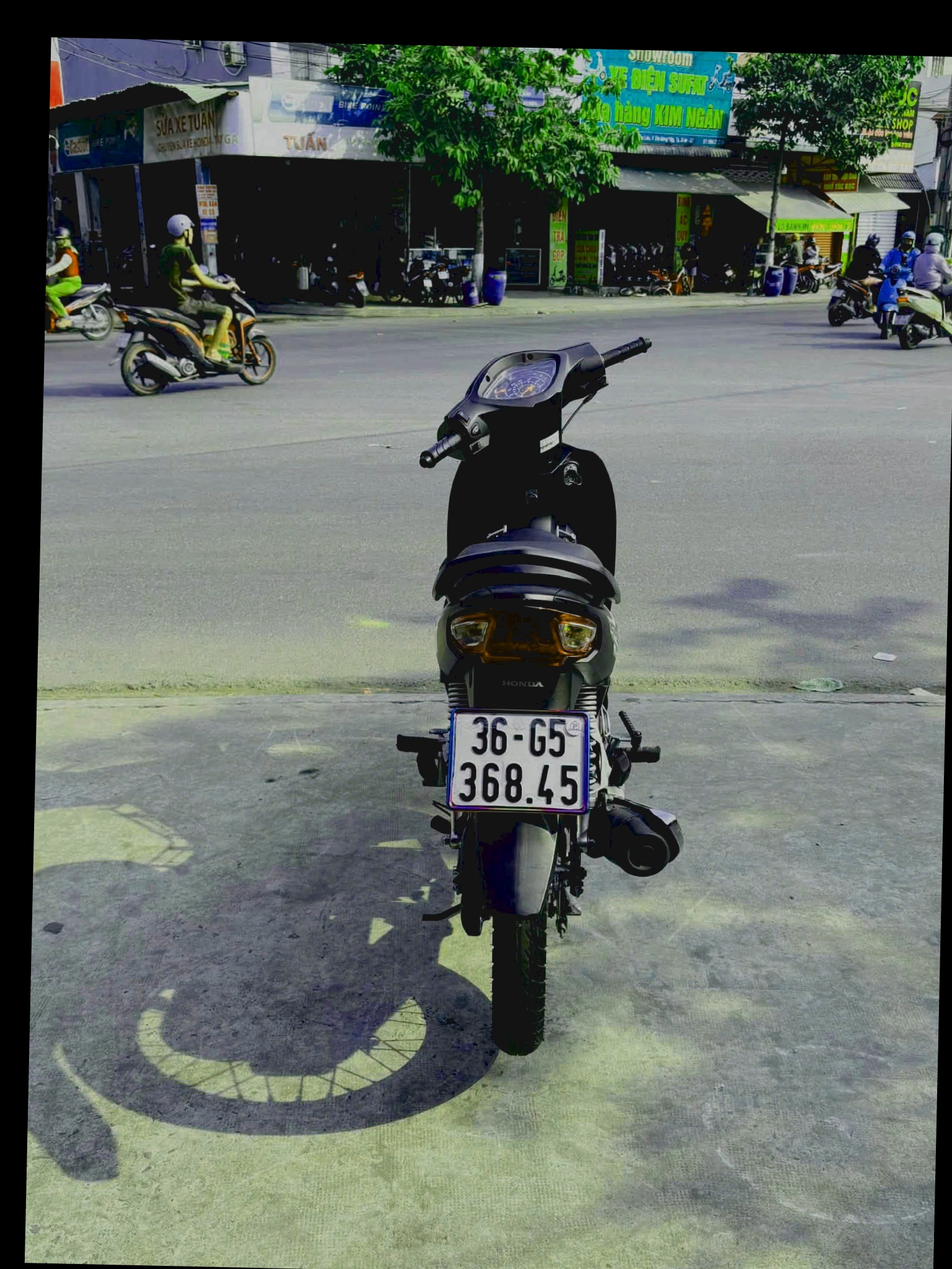Bien-so: (421, 680, 570, 789)
